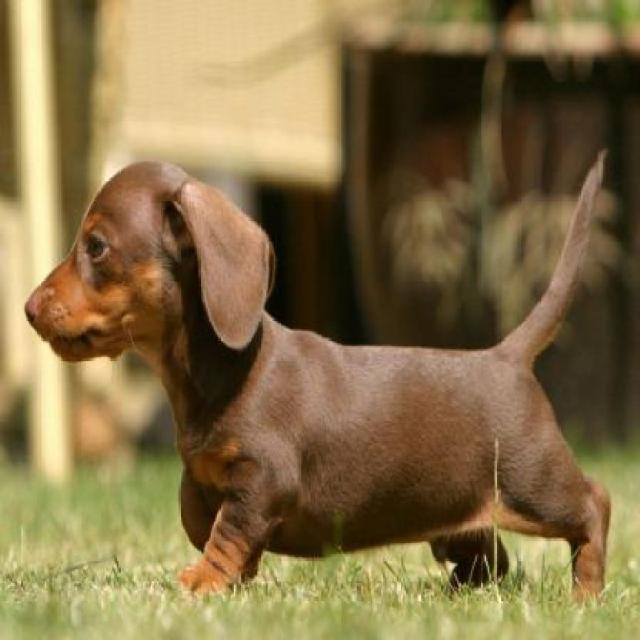Dog: (17, 140, 615, 611)
